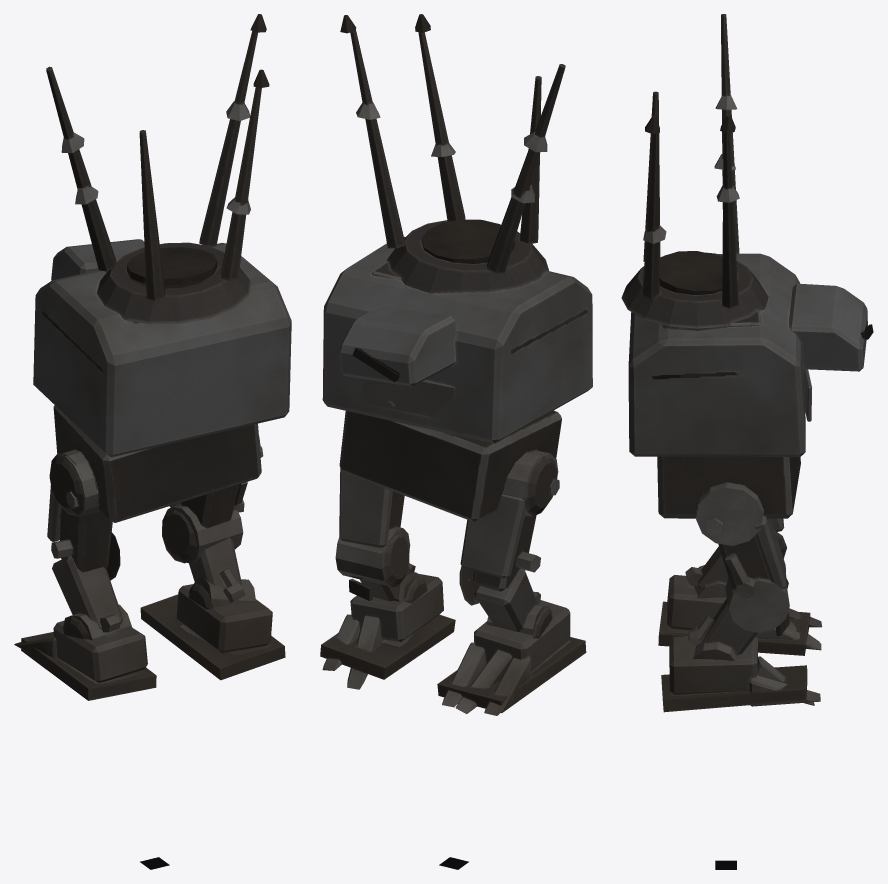
The model's file is chs_gloom_wreck.fbx.
3 views of the same model, side by side, from view 1: azimuth 30°, elevation 25°; view 2: azimuth 150°, elevation 25°; view 3: azimuth 270°, elevation 25° (orthographic). The views are drawn at different scales.
Parts seen in each view (by area): view 1: torso_bar, base_bar, footR_bar, footL_bar, thighL_bar, thighR_bar, shinL_bar, shinR_bar; view 2: torso_bar, base_bar, footL_bar, footR_bar, thighL_bar, thighR_bar, shinL_bar, shinR_bar; view 3: torso_bar, thighR_bar, footR_bar, base_bar, footL_bar, shinR_bar, shinL_bar.
Boxes of the visible parts, <box> form: torso_bar: <box>33,14,291,457</box>; base_bar: <box>53,405,261,522</box>; footR_bar: <box>140,584,285,680</box>; footL_bar: <box>14,620,156,700</box>; thighL_bar: <box>47,449,120,580</box>; thighR_bar: <box>162,436,263,563</box>; shinL_bar: <box>52,556,132,640</box>; shinR_bar: <box>189,537,255,609</box>; torso_bar: <box>322,14,592,443</box>; base_bar: <box>339,410,561,521</box>; footL_bar: <box>437,600,586,715</box>; footR_bar: <box>320,573,455,689</box>; thighL_bar: <box>459,450,559,605</box>; thighR_bar: <box>335,447,410,586</box>; shinL_bar: <box>474,568,552,638</box>; shinR_bar: <box>349,563,427,603</box>; torso_bar: <box>621,14,873,456</box>; thighR_bar: <box>696,482,789,632</box>; footR_bar: <box>661,636,820,712</box>; base_bar: <box>657,456,800,518</box>; footL_bar: <box>658,575,822,655</box>; shinR_bar: <box>688,598,789,660</box>; shinL_bar: <box>685,546,728,598</box>.
Size of the model in its own units: 229 by 811 by 231.
2 materials, 2 textured.
